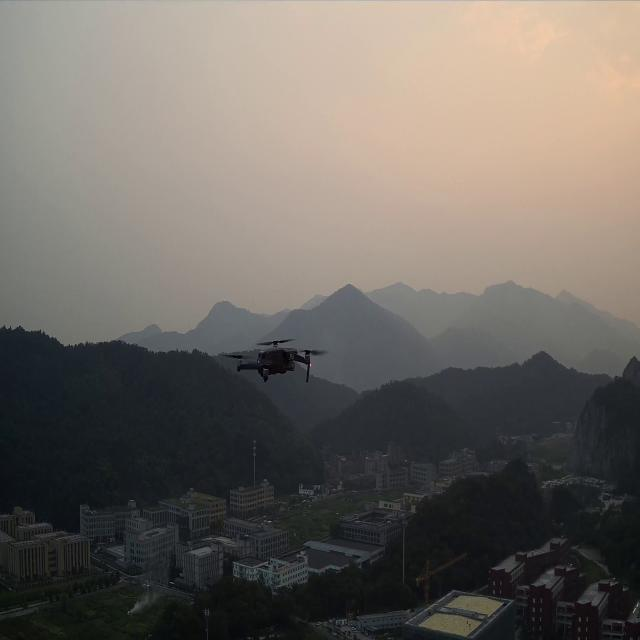UAV: (221, 338, 327, 383)
